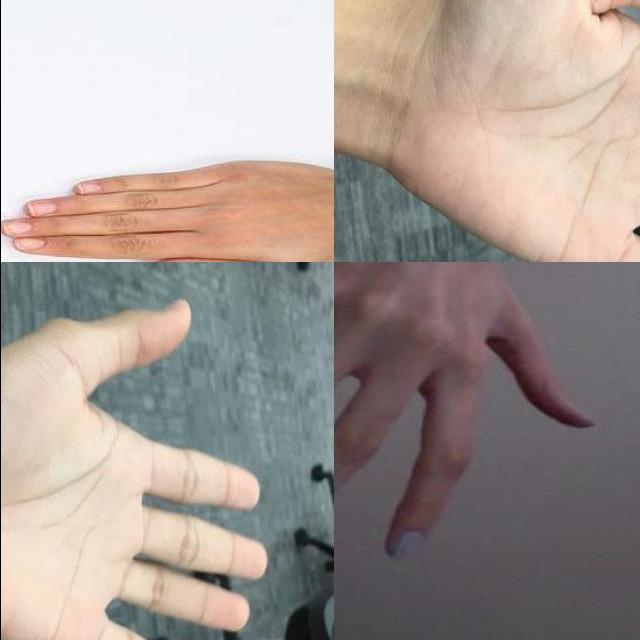Nail: (393, 530, 424, 562), (24, 201, 55, 218), (2, 220, 30, 237), (13, 237, 44, 250), (77, 182, 100, 194)
